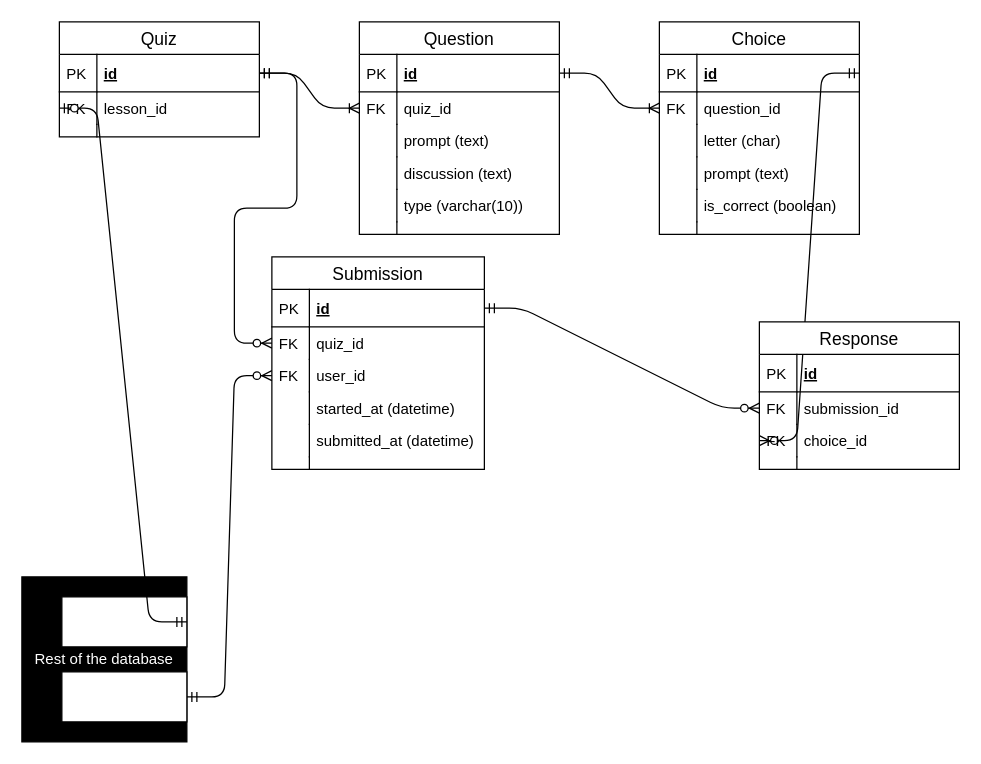
Image size: 981x764. Some labels were removed from this diagram. The centre of each missing label's shape, as x and y in pixels:
"Lesson" goes at pixel 124 621.
"User" goes at pixel 124 696.
